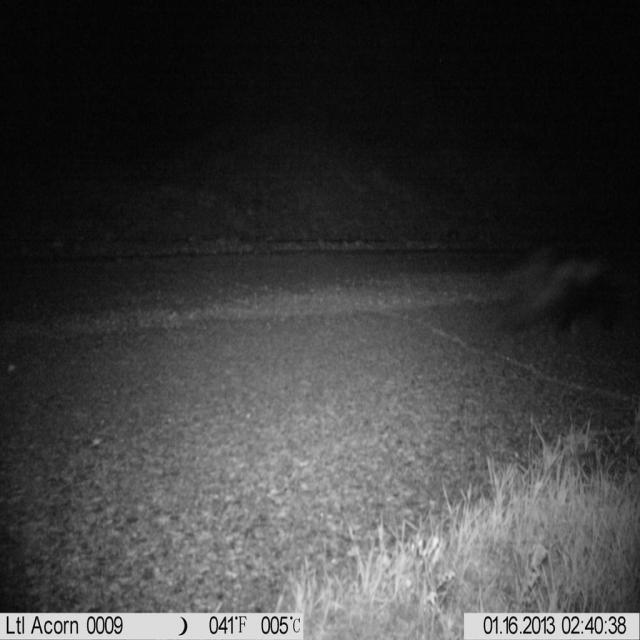skunk: (510, 242, 638, 343)
